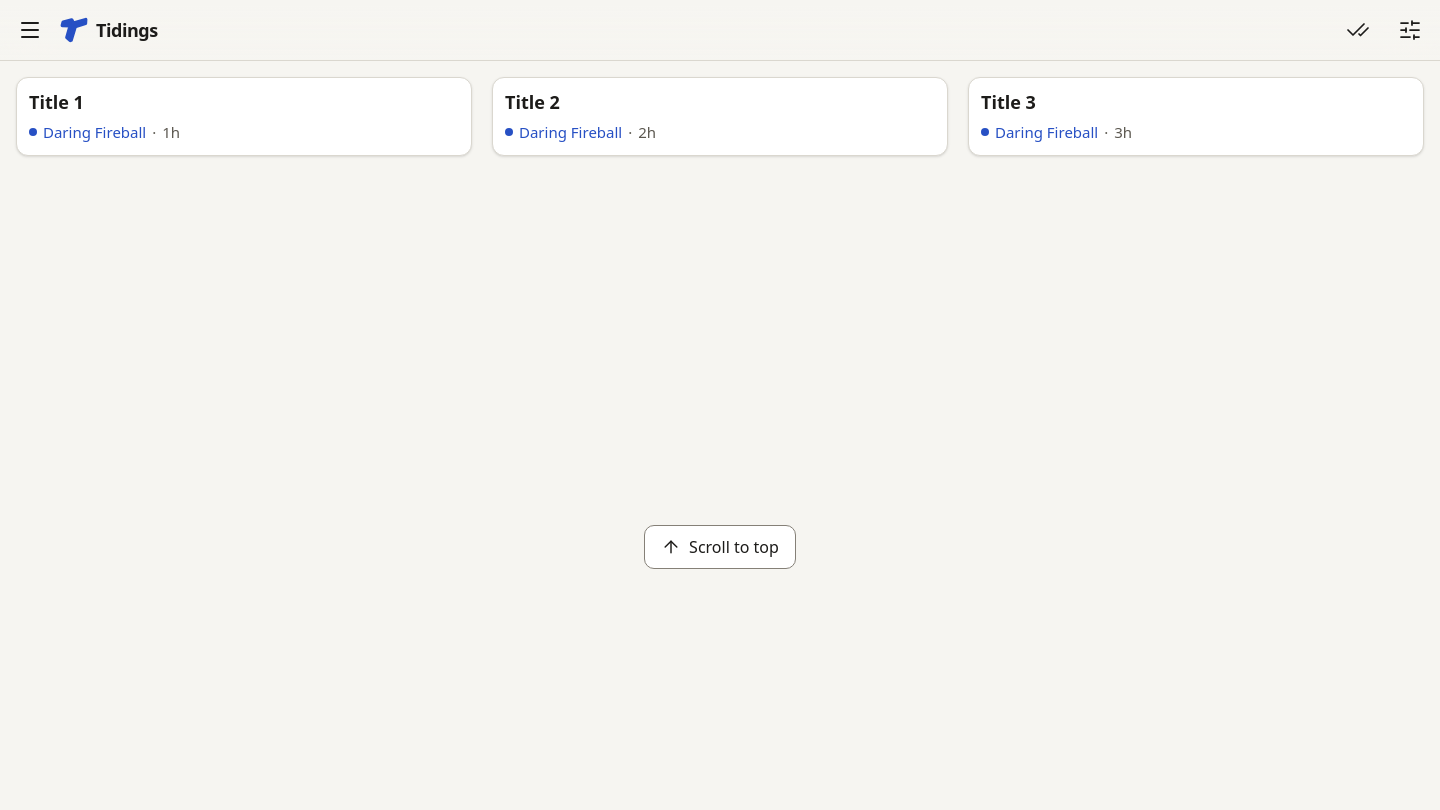
AC1, AC3, AC4: 20 or fewer entries › marks at once with no dialog, sends the list’s asOf, shows the rows read, and offers Undo for 5 s
Check: the heading "Title 1" is shown, box [29,90,84,114]
Click the button named "Mark all as read" at (1358, 30), box [1336,8,1380,52]
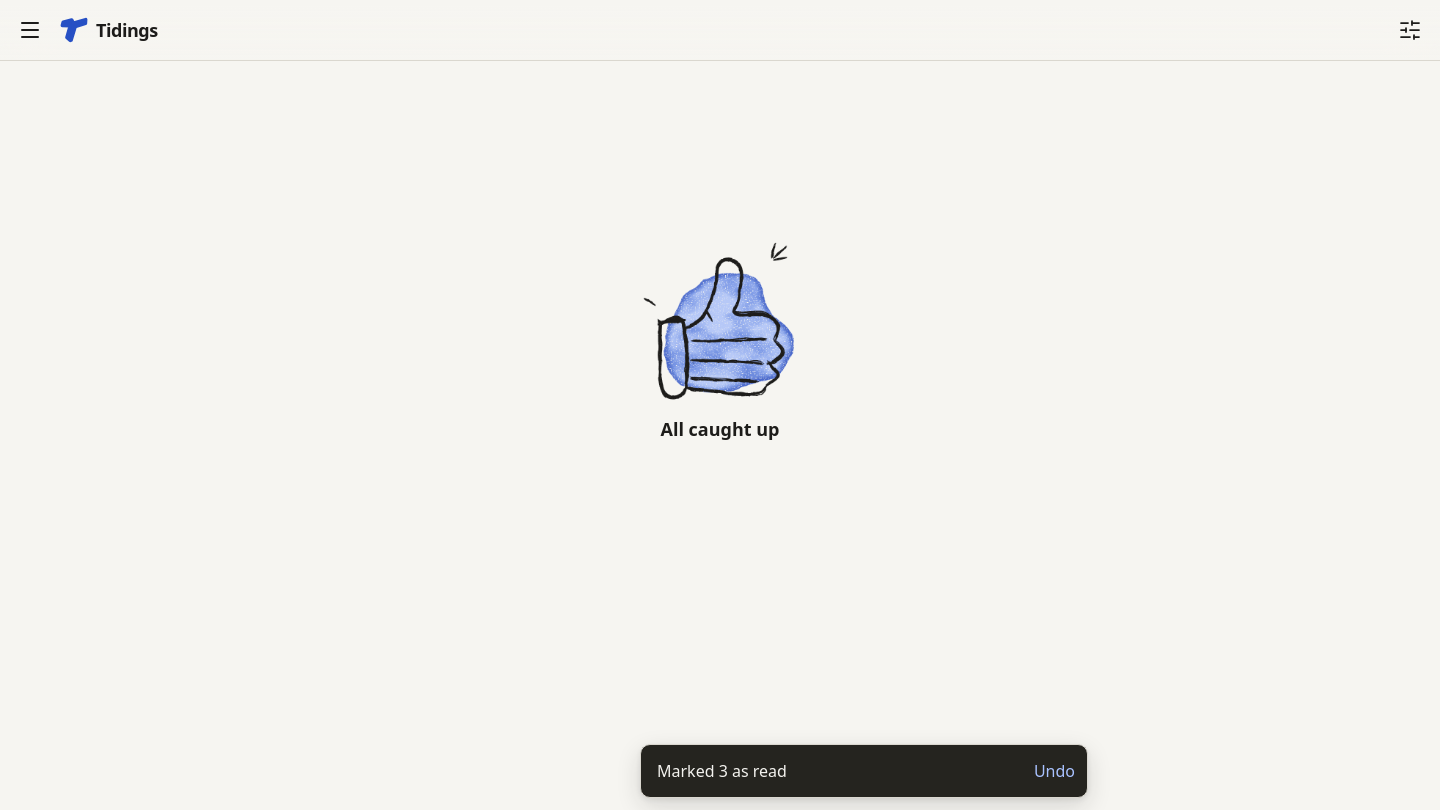
Check: the button "Undo" is shown, box [1022,749,1087,793]
Check: the heading "All caught up" is shown, box [660,414,780,442]
